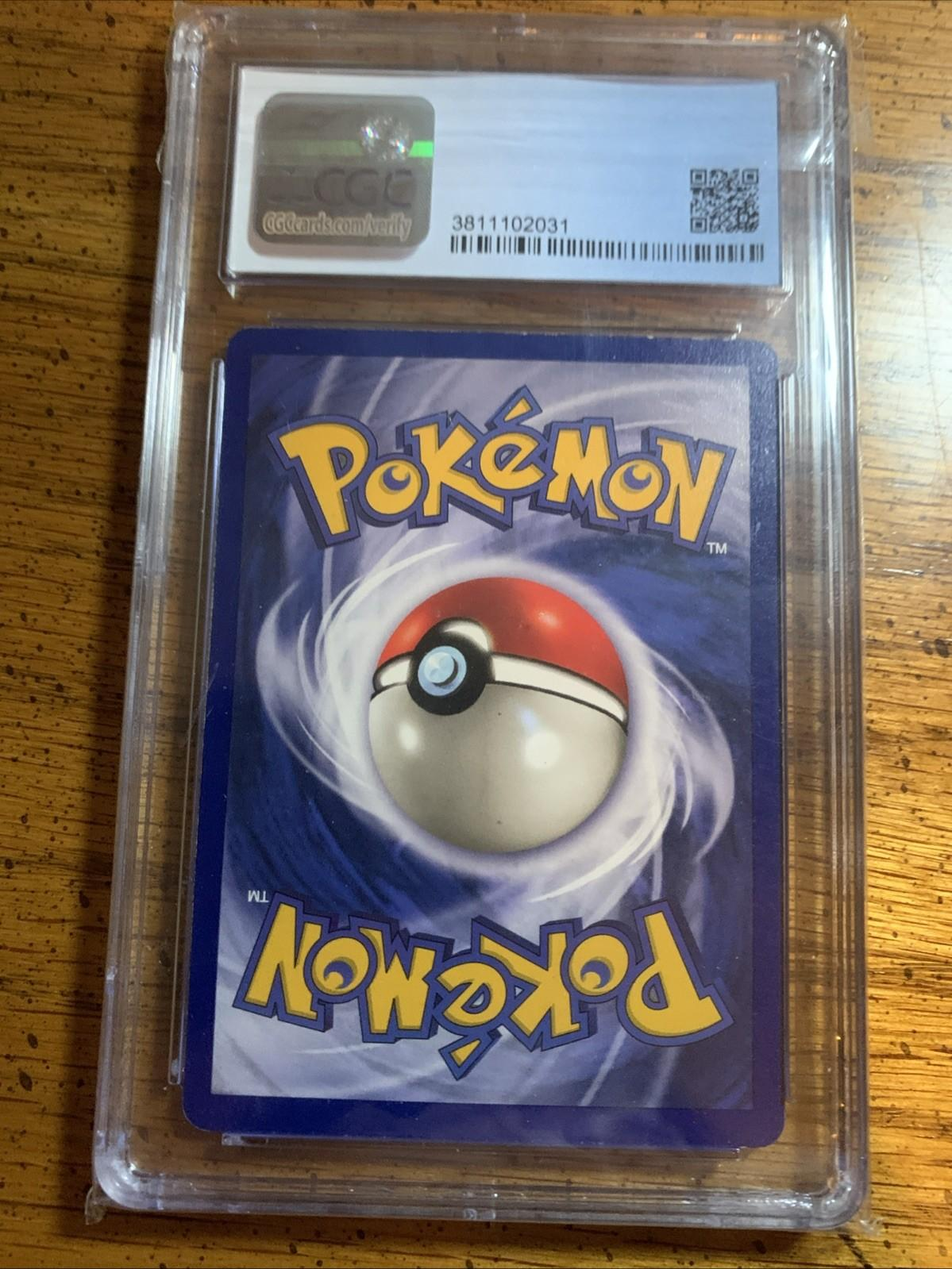card-2UtV: (180, 326, 785, 1149)
